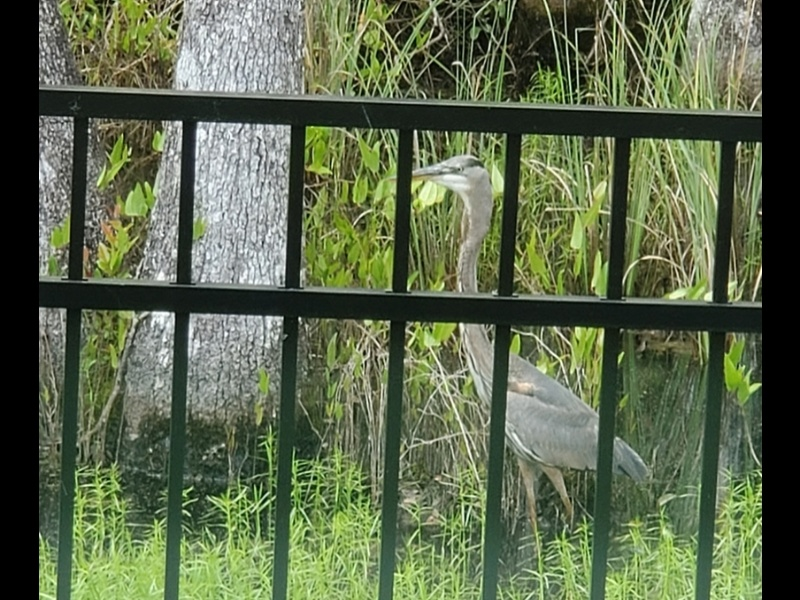heron: (390, 149, 659, 565)
